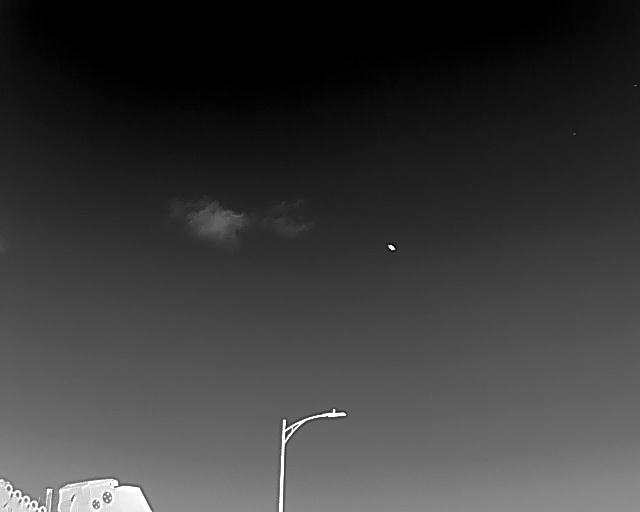fpv-drone: (387, 243, 396, 251)
